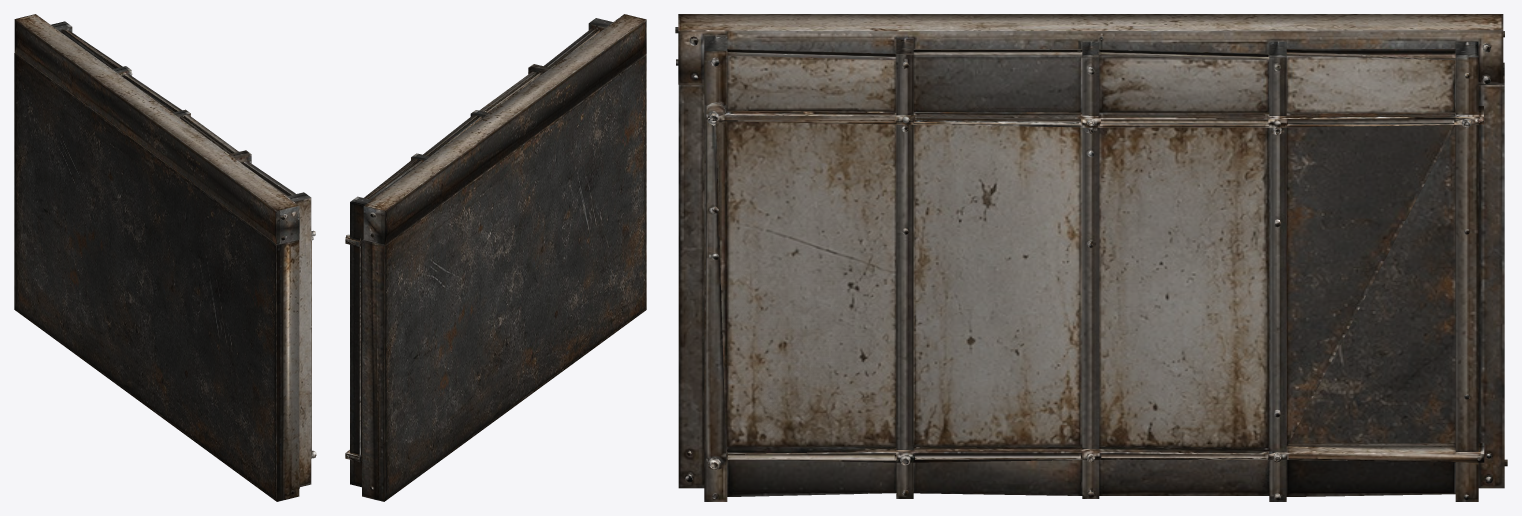
Rendered from Kitchen Walls.glb.
3 renders of one model, left to right at view 1: azimuth 30°, elevation 25°; view 2: azimuth 150°, elevation 25°; view 3: azimuth 270°, elevation 25°, orthographic. The views are drawn at different scales.
Visible parts, largest first — view 1: tripo_5295d674_dca2_4971_a5c3_62d0854f510e; view 2: tripo_5295d674_dca2_4971_a5c3_62d0854f510e; view 3: tripo_5295d674_dca2_4971_a5c3_62d0854f510e.
Boxes of the visible parts, x1,y1,x2,y2 form: tripo_5295d674_dca2_4971_a5c3_62d0854f510e: [14, 14, 316, 501]; tripo_5295d674_dca2_4971_a5c3_62d0854f510e: [345, 14, 646, 501]; tripo_5295d674_dca2_4971_a5c3_62d0854f510e: [675, 14, 1507, 501].
Size of the model in its own units: 0.1089 by 0.606 by 0.9995.
1 material, 1 textured.
